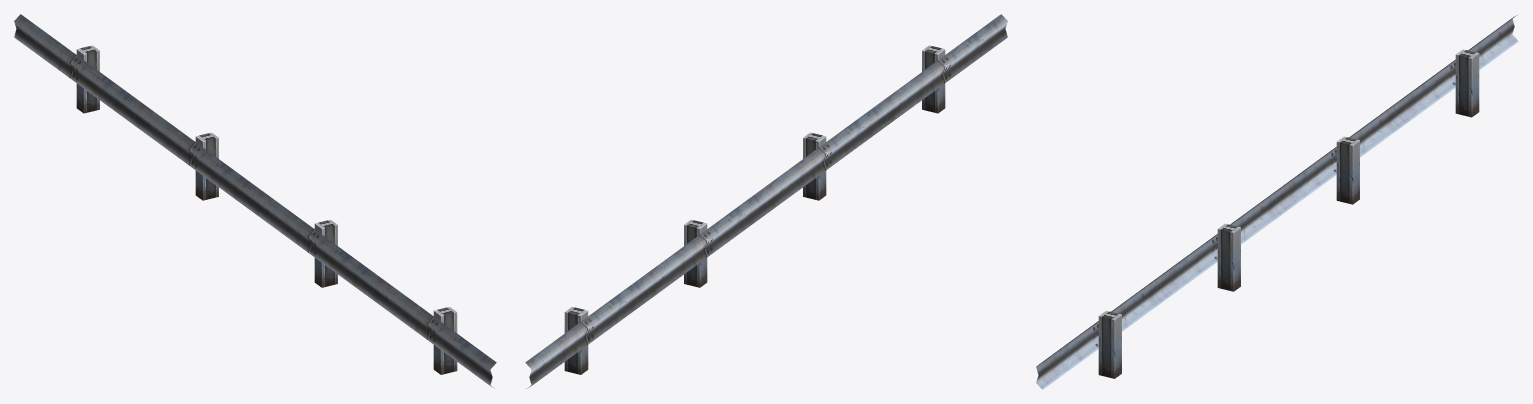
Rendered from TRF0110017.fbx.
3 views of the same model, side by side, from view 1: azimuth 30°, elevation 25°; view 2: azimuth 150°, elevation 25°; view 3: azimuth 330°, elevation 25° (orthographic).
Parts seen in each view (by area): view 1: smTRF0110017; view 2: smTRF0110017; view 3: smTRF0110017.
Part boxes in pixels (bbox=[...]): smTRF0110017: bbox=[14, 14, 496, 388]; smTRF0110017: bbox=[525, 14, 1007, 388]; smTRF0110017: bbox=[1036, 15, 1518, 389].
Size of the model in its own units: 33.12 by 82.17 by 1200.
1 material, 1 textured.
